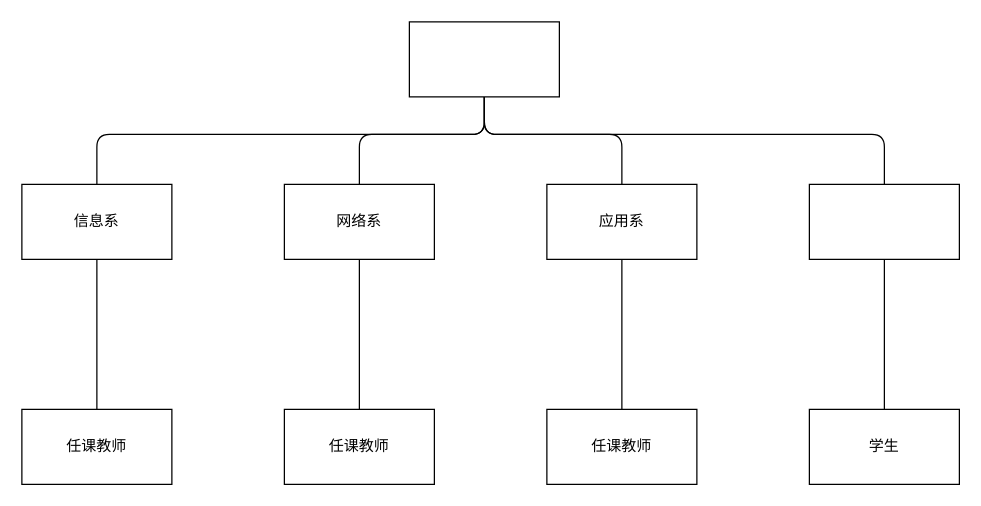
This 981x506 diagram has some shape labels left out. Here are the shapes that lost their labels. From the top down, the centre of each, then its label:
At point (483, 59): "学院办公室".
At point (883, 221): "辅导员".
